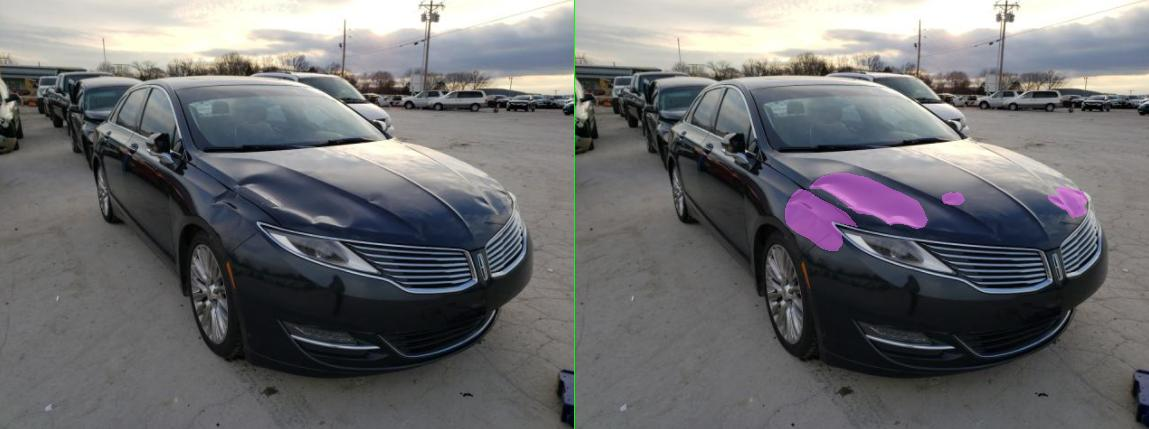Dent: (468, 173, 705, 228), (420, 189, 564, 250), (963, 186, 1023, 217), (735, 192, 779, 204), (991, 188, 1025, 203), (947, 195, 981, 209)
